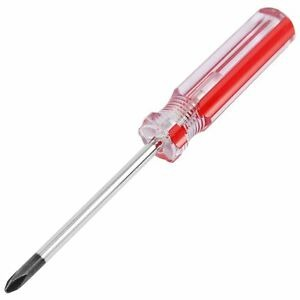screwdriver: (4, 1, 296, 294)
